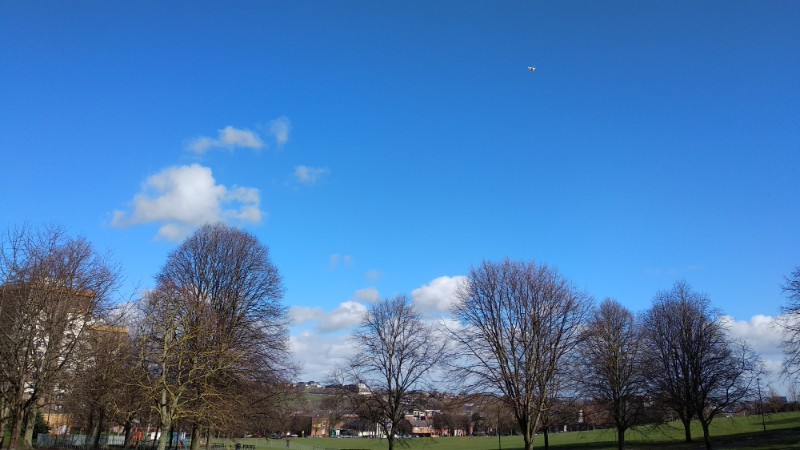drone: (526, 62, 538, 75)
